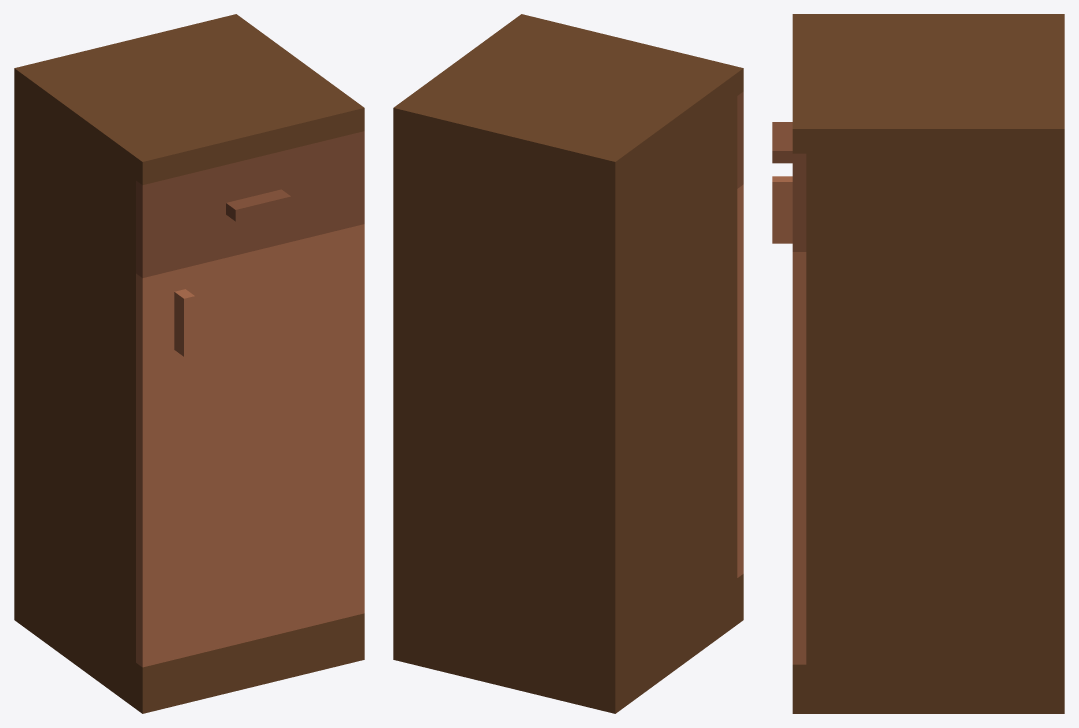
File: wardrobe1.fbx
3 renders of one model, left to right at view 1: azimuth 30°, elevation 25°; view 2: azimuth 150°, elevation 25°; view 3: azimuth 270°, elevation 25°, orthographic. The views are drawn at different scales.
Visible parts, largest first — view 1: Object_1453; view 2: Object_1453; view 3: Object_1453.
Part boxes in pixels (x1,y1,x2,y2): Object_1453: [14, 14, 364, 713]; Object_1453: [393, 14, 743, 713]; Object_1453: [772, 14, 1064, 713].
Size of the model in its own units: 40 by 95 by 43.
